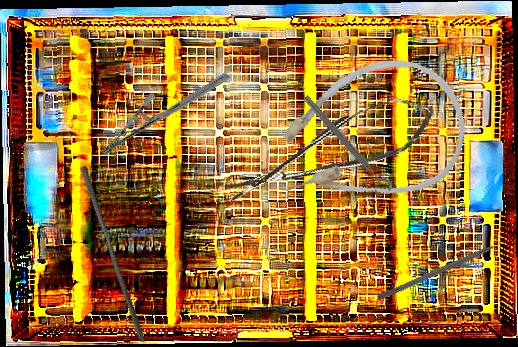Cannula: (259, 43, 479, 226)
Fixation Ring: (295, 92, 395, 201)
Hook Surgical: (376, 236, 514, 303)
Micro Scissor: (216, 87, 444, 214)
Needle Holder: (100, 38, 231, 190)
Pusher: (73, 164, 153, 344)
